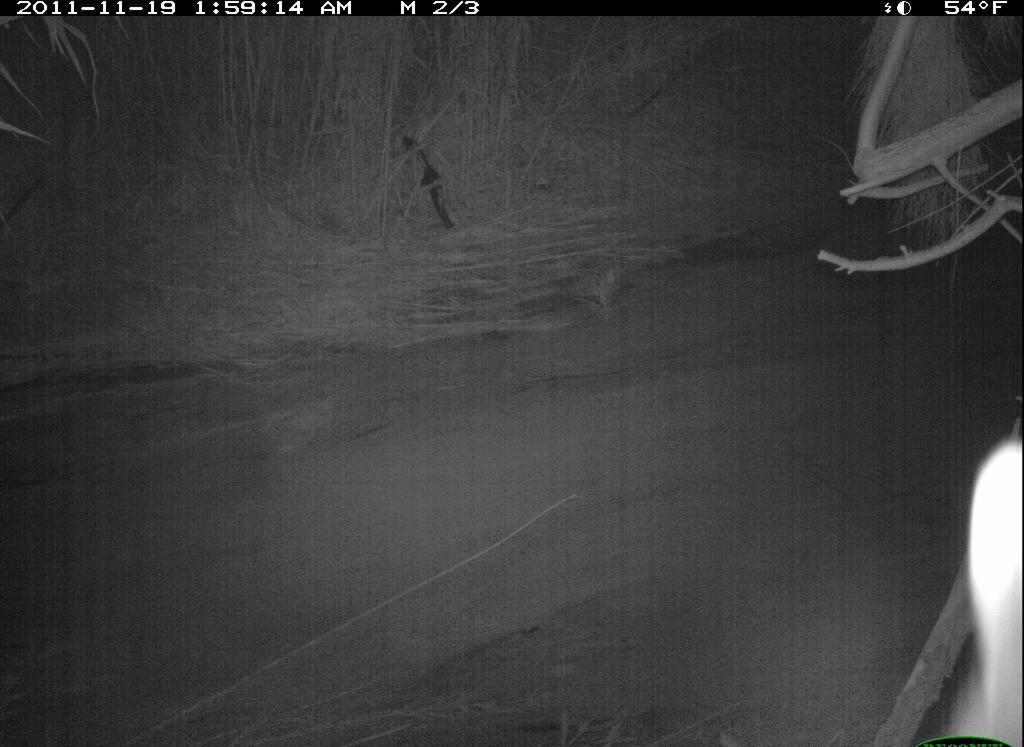raccoon: (948, 408, 1018, 743)
